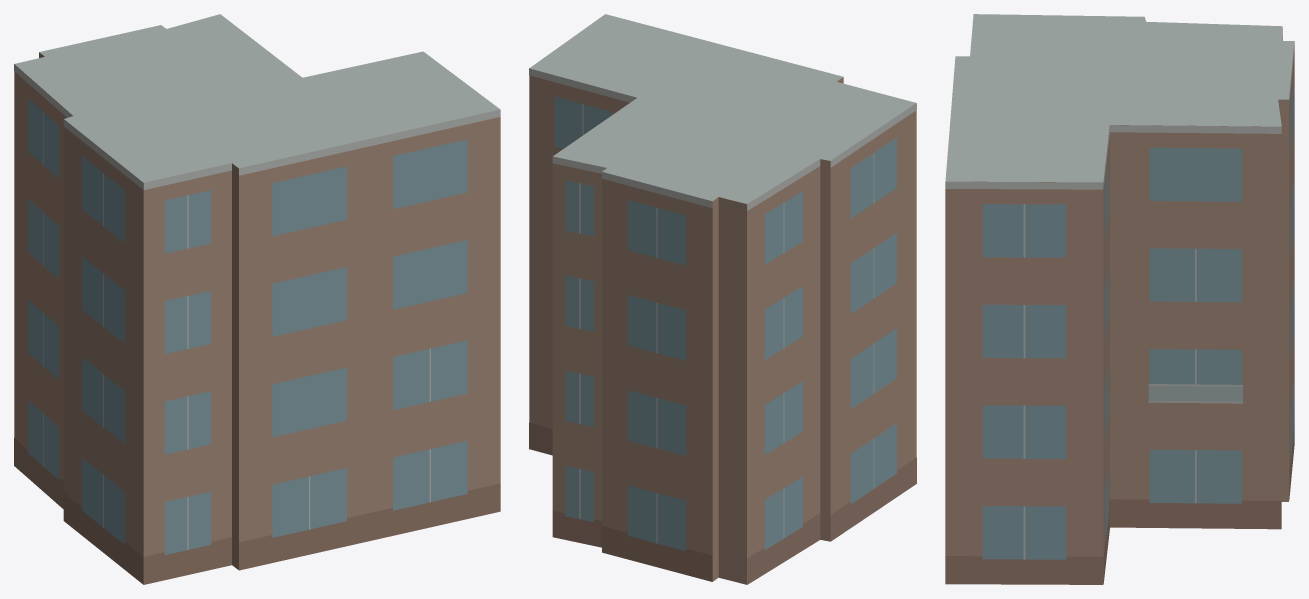
The model's file is survey-upis-32654214.glb.
3 renders of one model, left to right at view 1: azimuth 30°, elevation 25°; view 2: azimuth 150°, elevation 25°; view 3: azimuth 270°, elevation 25°, orthographic. The views are drawn at different scales.
Parts seen in each view (by area): view 1: survey-upis-32654214.tmp; view 2: survey-upis-32654214.tmp; view 3: survey-upis-32654214.tmp.
Boxes of the visible parts, box(x1,y1,x2,y2) form: survey-upis-32654214.tmp: box(14, 14, 500, 584); survey-upis-32654214.tmp: box(529, 14, 916, 584); survey-upis-32654214.tmp: box(945, 14, 1294, 584).
Size of the model in its own units: 12.07 by 13.45 by 10.58.
